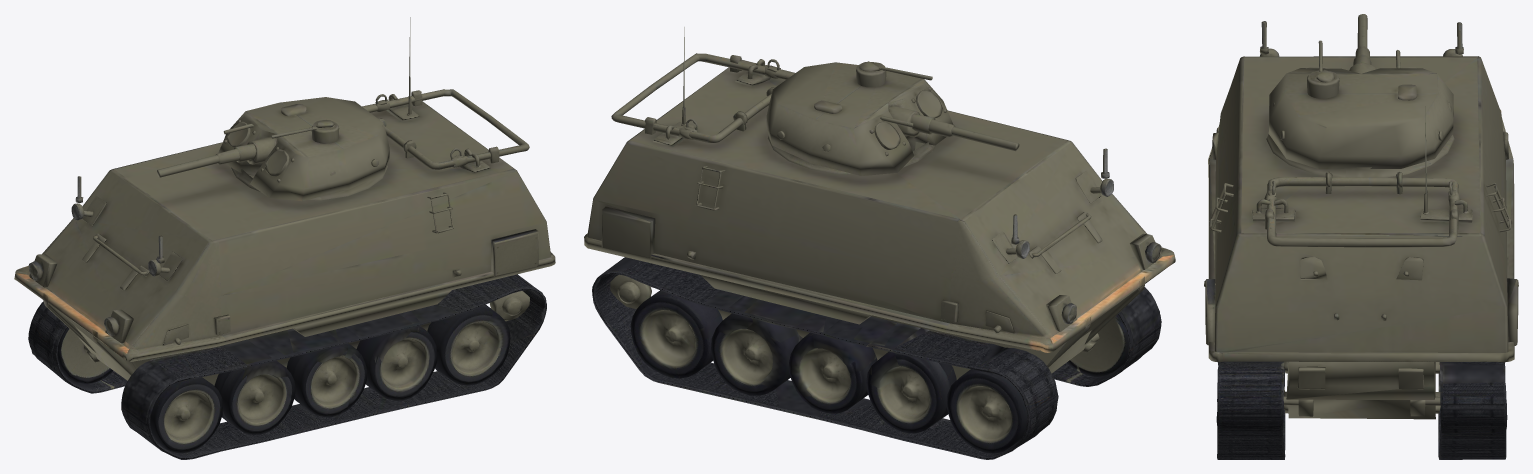
The model's file is ifv.glb.
The picture shows the model from 3 angles, left to right: view 1: azimuth 30°, elevation 25°; view 2: azimuth 150°, elevation 25°; view 3: azimuth 270°, elevation 25°; orthographic projection. The views are drawn at different scales.
Size of the model in its own units: 1 by 0.7003 by 0.5398.
Materials: 1 (1 with a texture image).
